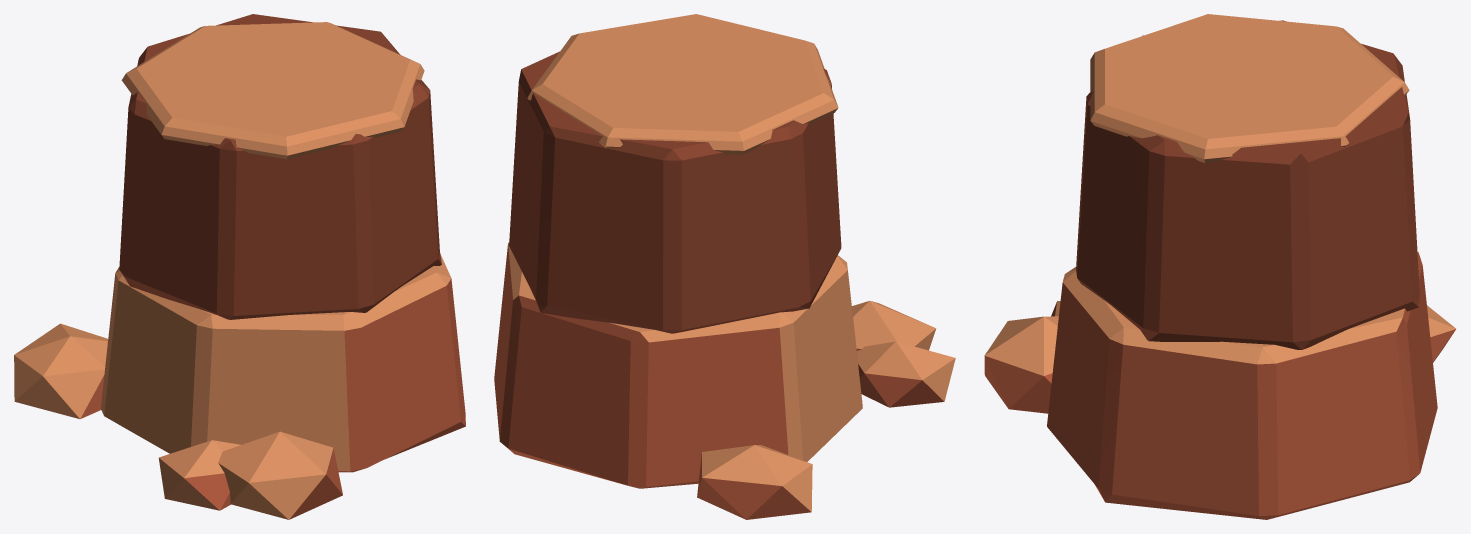
The model's file is Mesa_B.fbx.
3 renders of one model, left to right at view 1: azimuth 30°, elevation 25°; view 2: azimuth 150°, elevation 25°; view 3: azimuth 270°, elevation 25°, orthographic. The views are drawn at different scales.
Visible parts, largest first — view 1: Mesa_B; view 2: Mesa_B; view 3: Mesa_B.
Boxes of the visible parts, x1,y1,x2,y2 form: Mesa_B: [14, 14, 465, 519]; Mesa_B: [494, 14, 955, 519]; Mesa_B: [984, 14, 1455, 519].
Size of the model in its own units: 2.53 by 2.32 by 2.64.
